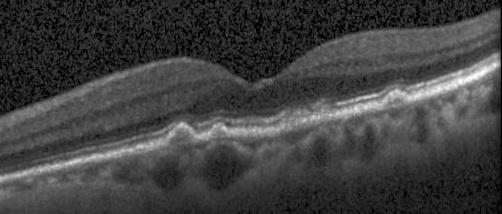retinal_drusen: (287, 108, 315, 130), (169, 127, 195, 145), (316, 98, 335, 122), (386, 93, 406, 108), (212, 127, 228, 139)
